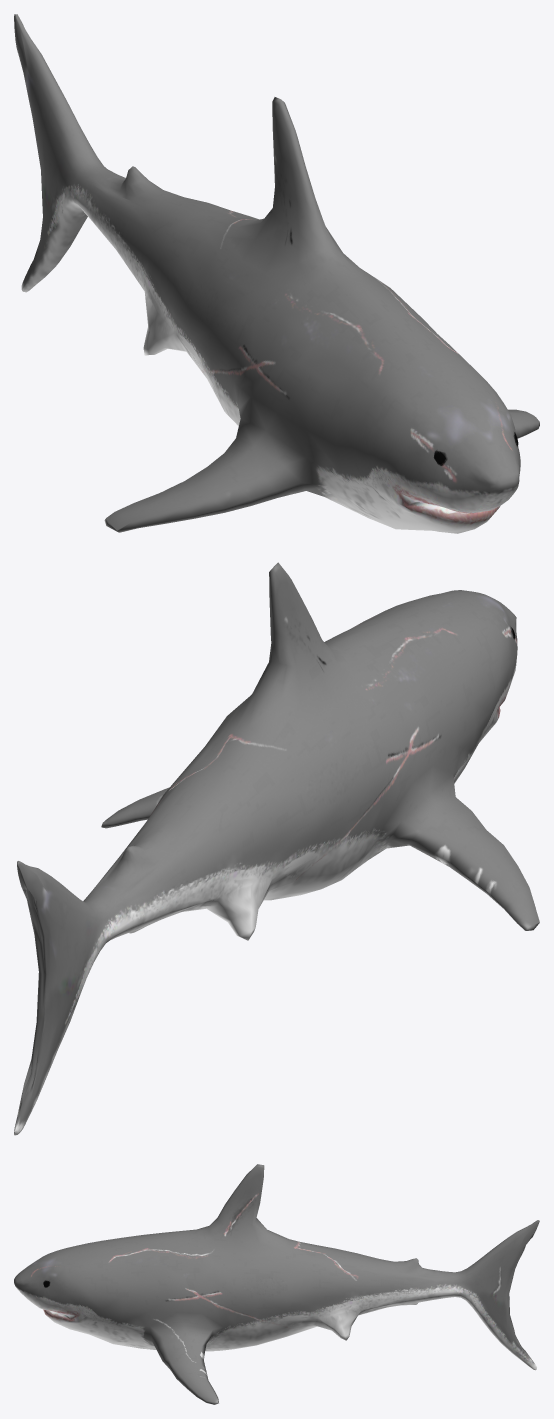
File: shark.obj
3 views of the same model, one above another, from view 1: azimuth 30°, elevation 25°; view 2: azimuth 150°, elevation 25°; view 3: azimuth 270°, elevation 25° (orthographic). The views are drawn at different scales.
Visible parts, largest first — view 1: Shark_Mesh; view 2: Shark_Mesh; view 3: Shark_Mesh.
Boxes of the visible parts, x1=… form: Shark_Mesh: x1=14, y1=14, x2=539, y2=533; Shark_Mesh: x1=14, y1=562, x2=539, y2=1135; Shark_Mesh: x1=14, y1=1164, x2=539, y2=1404.
Bounding box in the file's own units: 235 × 200 × 465.
1 material, 1 textured.
